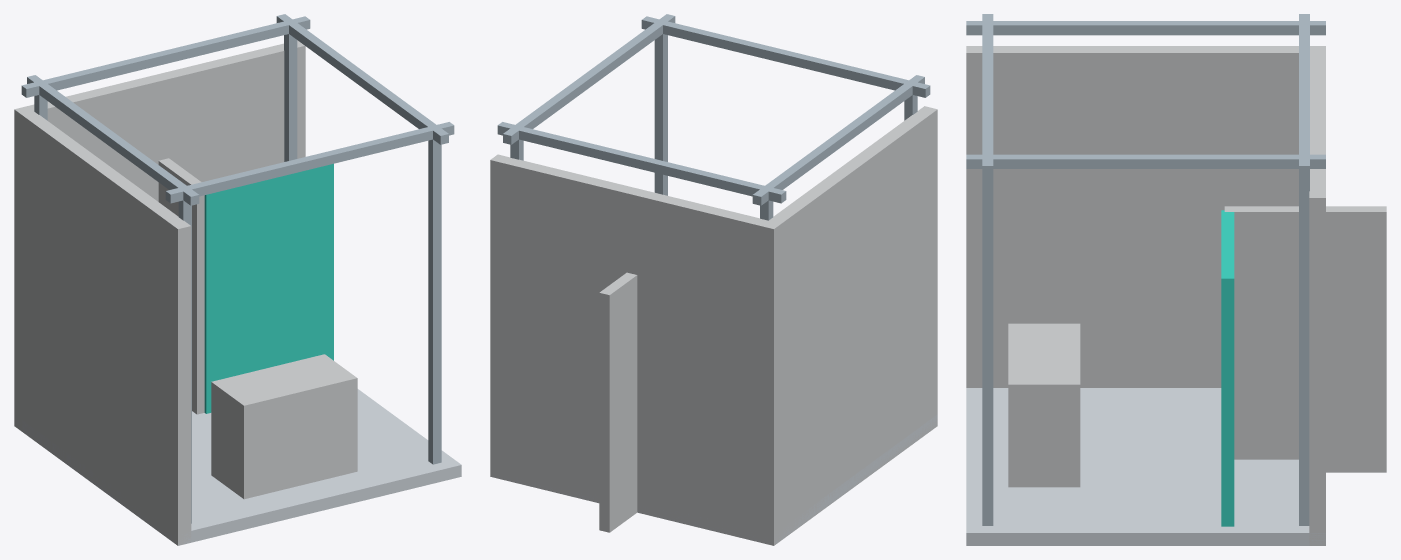
3 views of the same model, side by side, from view 1: azimuth 30°, elevation 25°; view 2: azimuth 150°, elevation 25°; view 3: azimuth 270°, elevation 25° (orthographic). The views are drawn at different scales.
Visible parts, largest first — view 1: Exhibition Booth Concept; view 2: Exhibition Booth Concept; view 3: Exhibition Booth Concept.
Boxes of the visible parts, x1=… form: Exhibition Booth Concept: x1=14, y1=14, x2=461, y2=545; Exhibition Booth Concept: x1=490, y1=14, x2=937, y2=545; Exhibition Booth Concept: x1=966, y1=14, x2=1386, y2=545.
Bounding box in the file's own units: 3 × 3.49 × 3.51.
